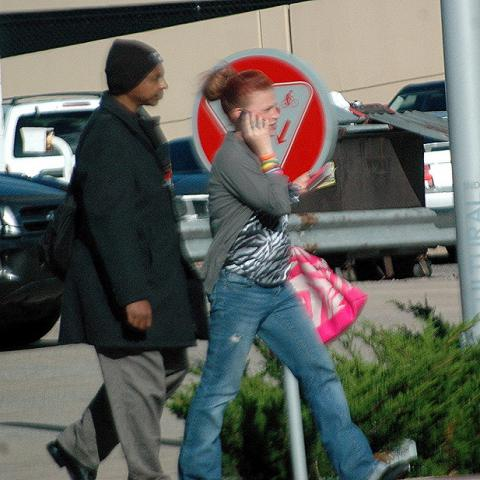car: (0, 170, 63, 351), (1, 94, 102, 176), (166, 136, 212, 194), (174, 194, 212, 257), (386, 81, 446, 114)
